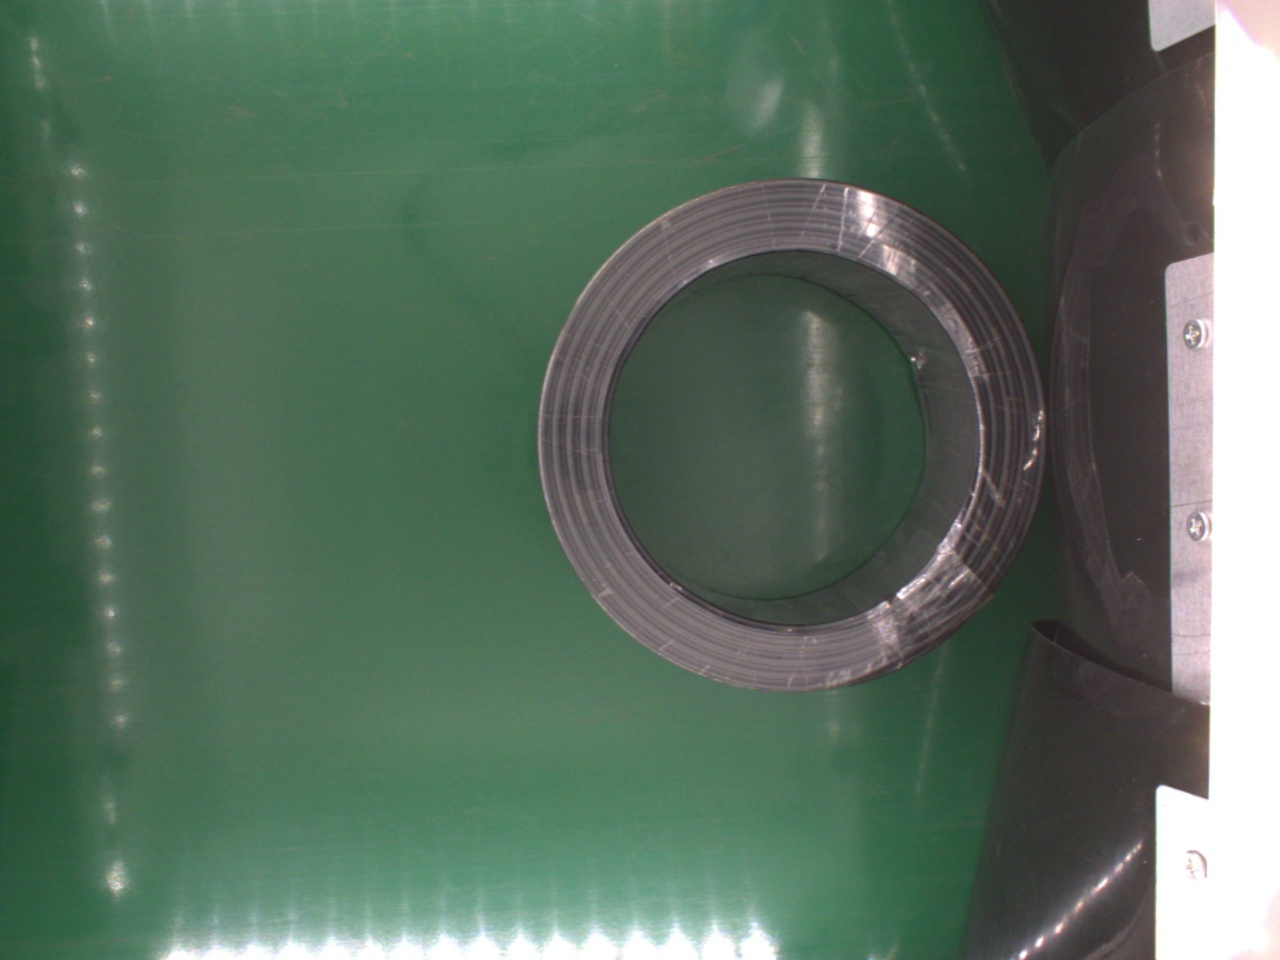black: (533, 178, 1045, 686)
